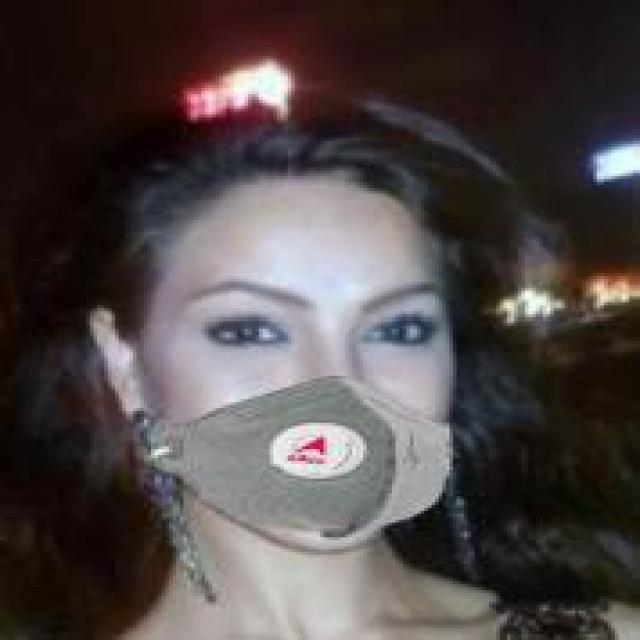mask: (97, 91, 568, 572)
